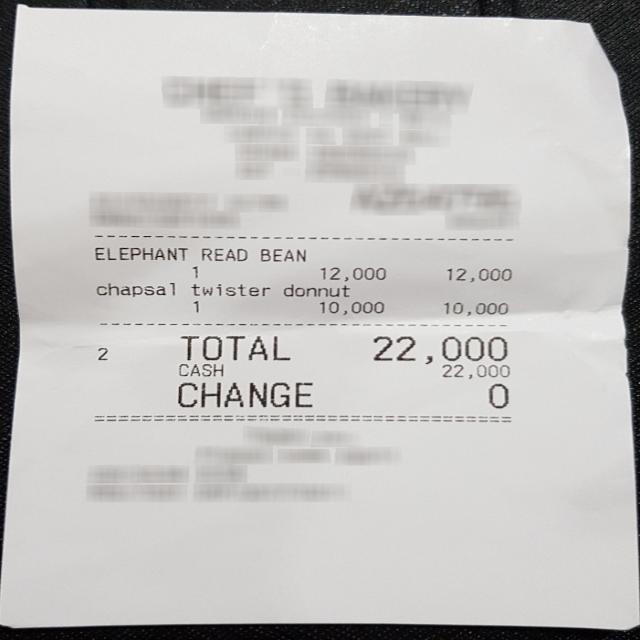text: (370, 334, 510, 364), (177, 382, 310, 406), (180, 335, 289, 360), (93, 246, 185, 260), (95, 282, 175, 296), (440, 363, 509, 378), (446, 267, 510, 282), (318, 266, 384, 280), (191, 283, 268, 295), (318, 300, 382, 314), (442, 301, 507, 314), (283, 284, 348, 296), (201, 247, 248, 262), (259, 248, 307, 262), (175, 362, 223, 376), (485, 382, 508, 407), (188, 264, 200, 278), (98, 346, 108, 360), (192, 299, 202, 312)
